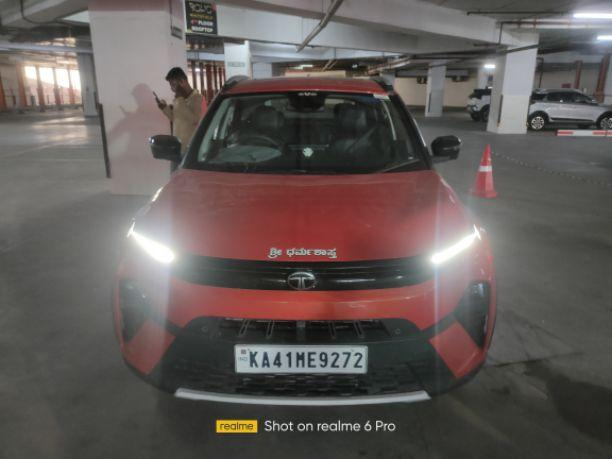license_plate: (232, 343, 369, 375)
